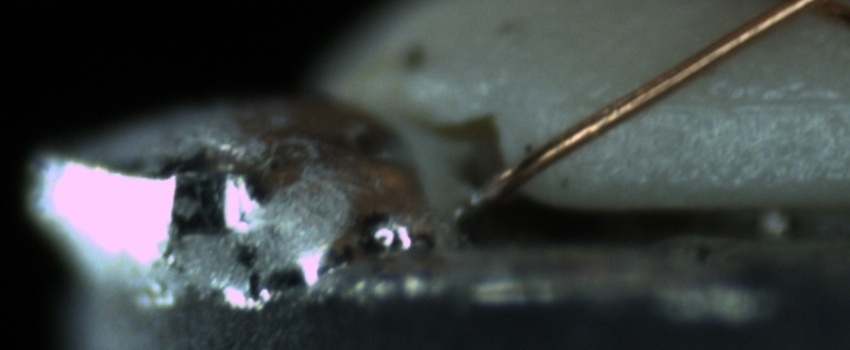CL: (763, 0, 849, 23)
DL: (604, 70, 850, 136)
